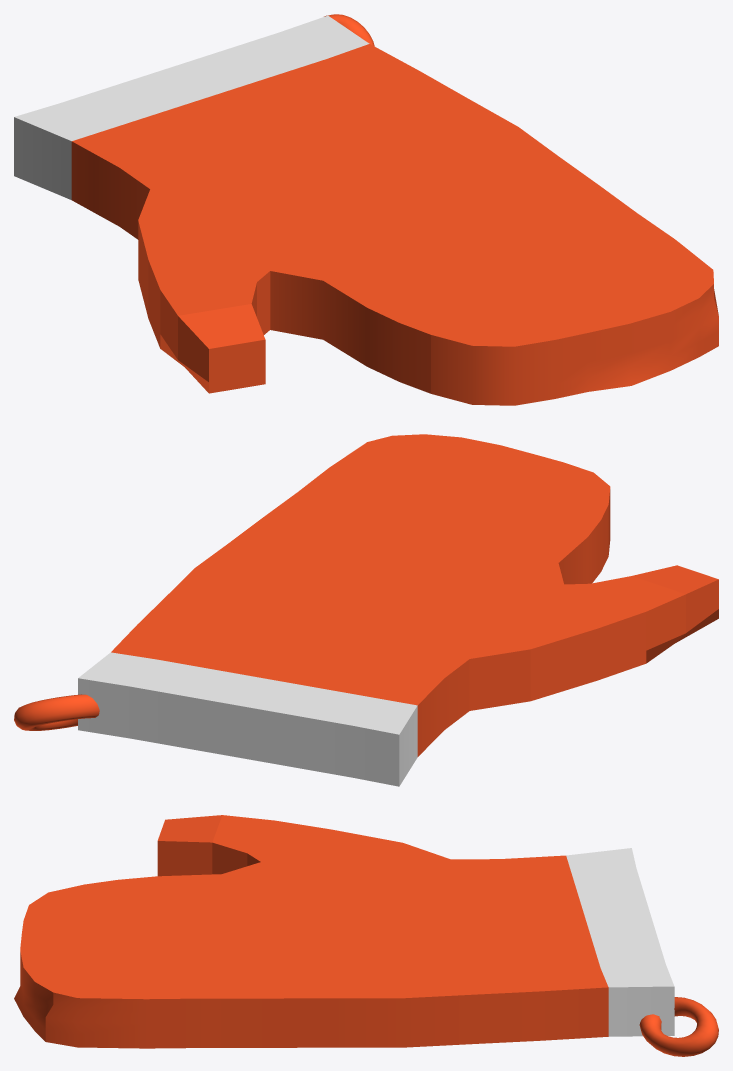
The model's file is OvenMitt.FBX.
The picture shows the model from 3 angles, top to bottom: view 1: azimuth 30°, elevation 25°; view 2: azimuth 150°, elevation 25°; view 3: azimuth 270°, elevation 25°; orthographic projection. The views are drawn at different scales.
Parts seen in each view (by area): view 1: Box001; view 2: Box001, Torus001; view 3: Box001, Torus001.
Boxes of the visible parts, box(x1,y1,x2,y2) form: Box001: box(14, 15, 718, 405); Box001: box(78, 434, 718, 786); Torus001: box(14, 694, 99, 730); Box001: box(14, 815, 674, 1048); Torus001: box(639, 997, 718, 1056).
Bounding box in the file's own units: 40.46 × 5.38 × 61.71.
